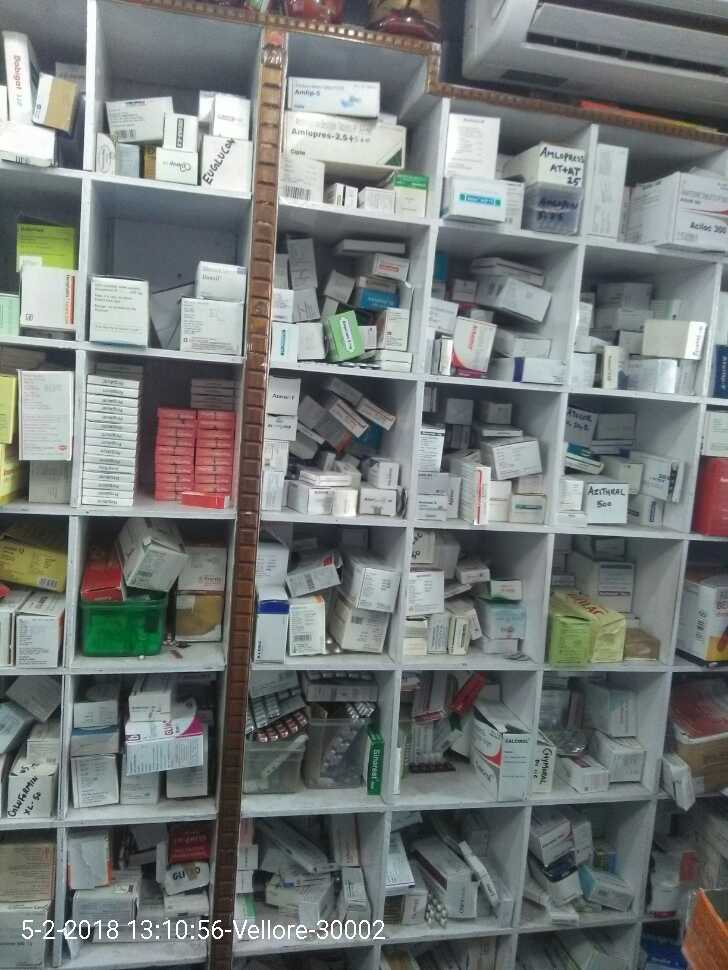reject: (420, 497, 510, 565)
